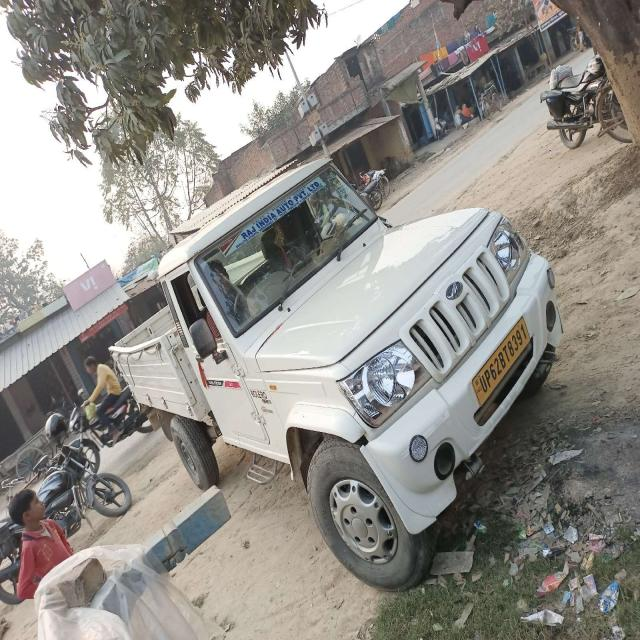light_vehicle: (148, 168, 560, 494)
